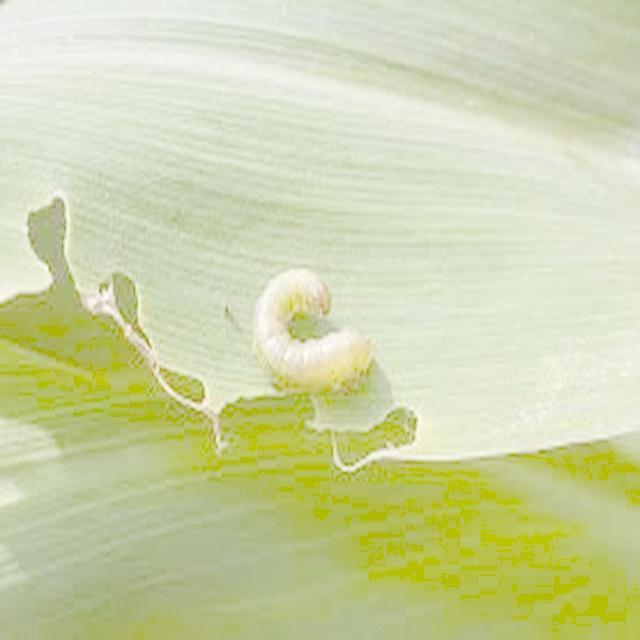Plaga: (249, 265, 379, 397)
